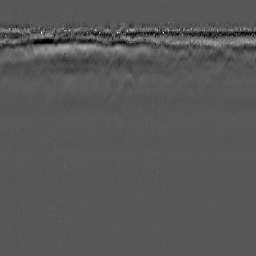cavity: (118, 70, 136, 98)
